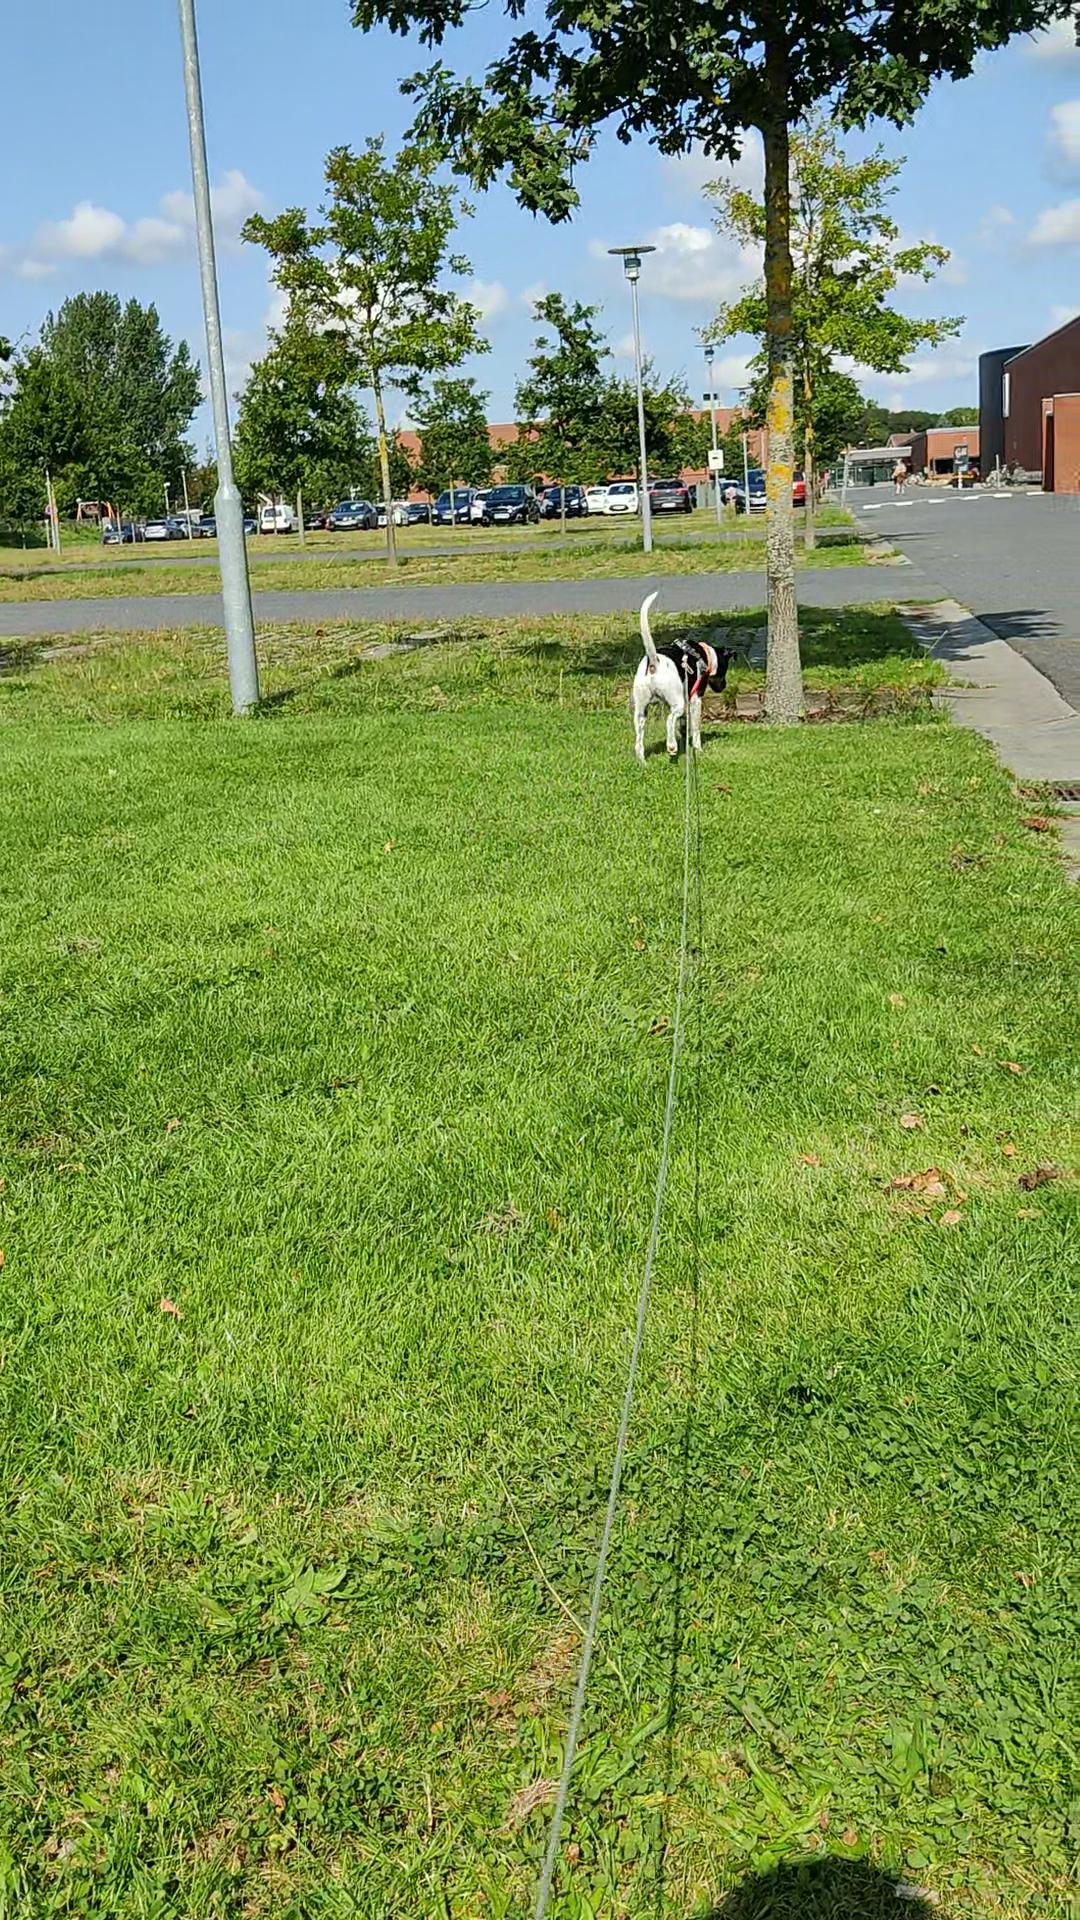Dog: (624, 588, 738, 765)
